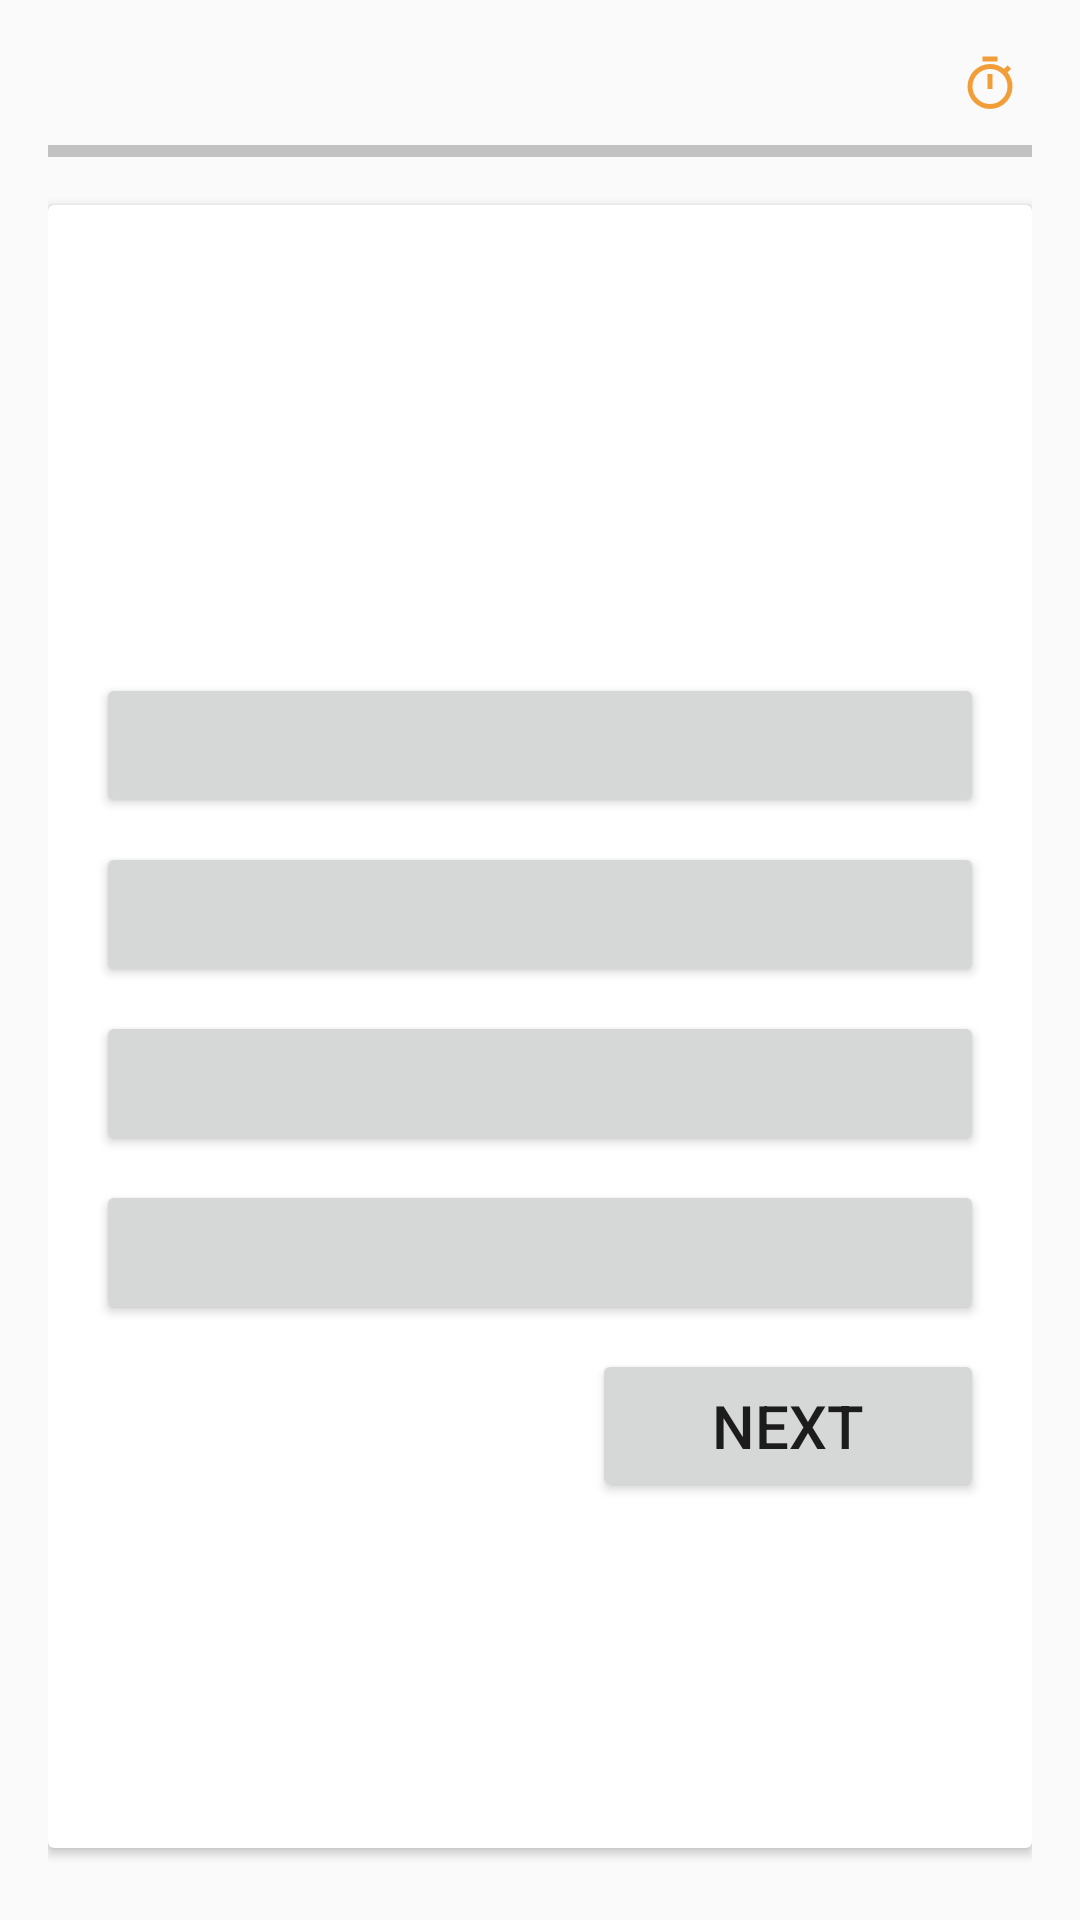

Named icons in this screenshot (1080px×1920px) and their bounding boxes, (x1, y1, x2, y2):
timer: (967, 56, 1013, 109)
